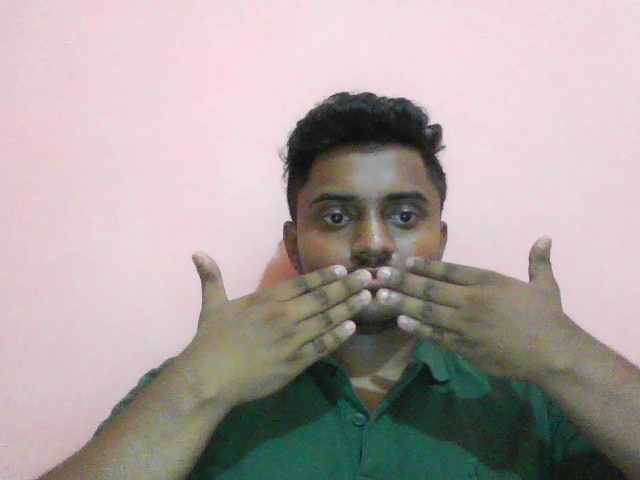Thank You: (136, 230, 615, 428)
